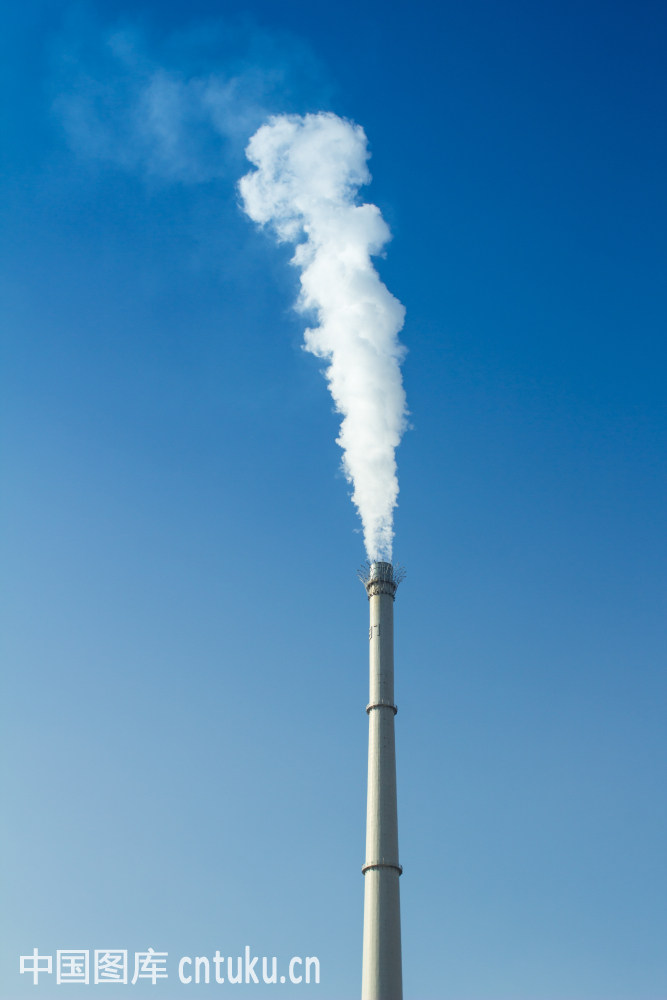dust: (236, 116, 462, 587)
